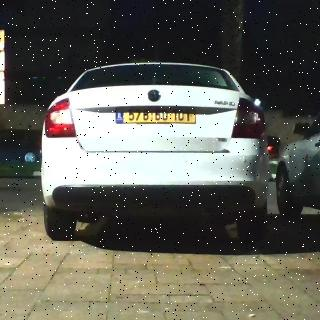LicensePlate: (124, 108, 195, 123)
